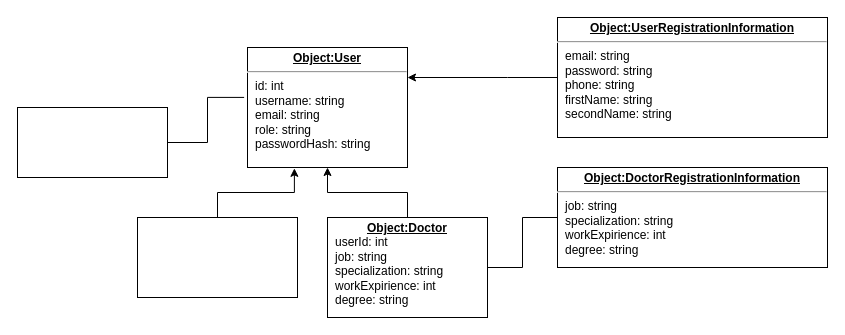
Some shapes in this 845 by 335 pixel diagram are drawn without their labels. The box of each missing label's shape, as (x1, y1, x2, y2) in pixels:
Object:LoginInformation email: string password: string: (16, 106, 168, 178)
Object:Patient userId: int medicalCardId: number: (136, 216, 298, 298)
